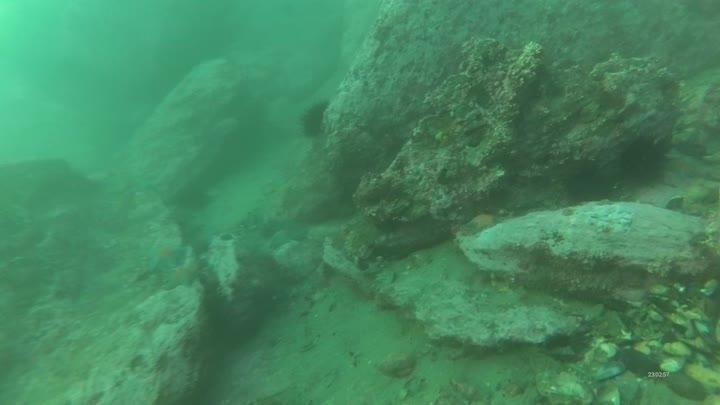echinus: (614, 131, 673, 190), (560, 162, 615, 208), (297, 98, 332, 140)
starfish: (143, 237, 189, 275), (662, 151, 713, 185), (160, 259, 203, 292), (460, 209, 502, 237)
